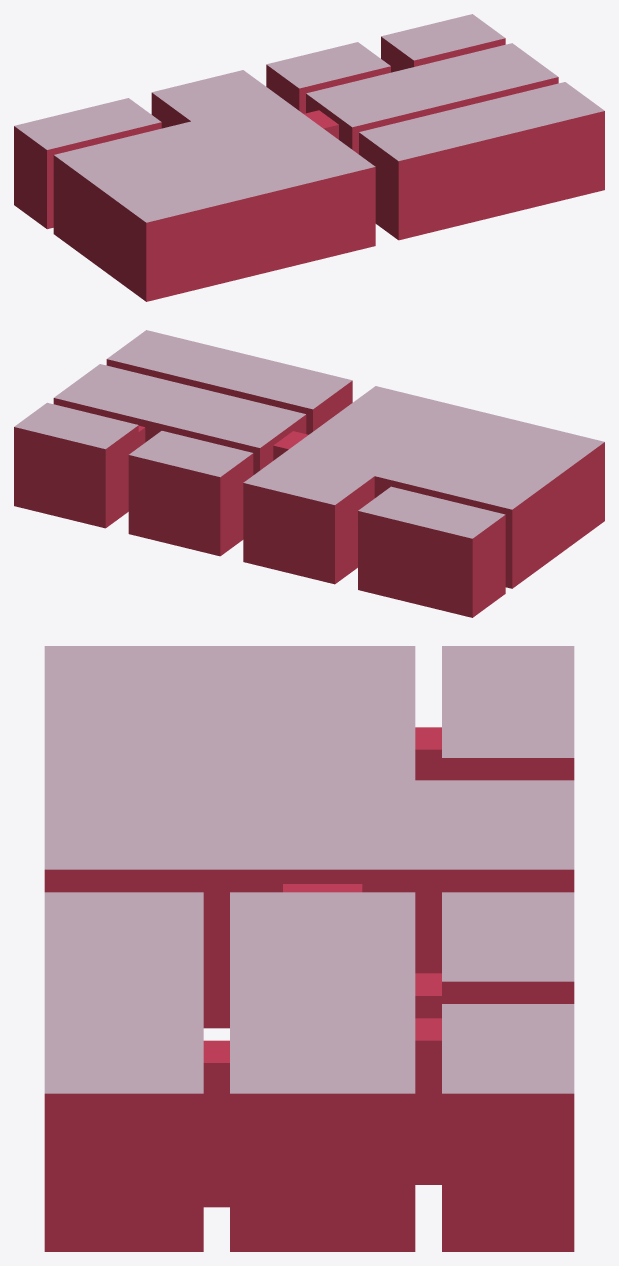
File: HOME3.fbx
The picture shows the model from 3 angles, top to bottom: view 1: azimuth 30°, elevation 25°; view 2: azimuth 150°, elevation 25°; view 3: azimuth 270°, elevation 25°; orthographic projection. The views are drawn at different scales.
Visible parts, largest first — view 1: Plane; view 2: Plane; view 3: Plane.
Boxes of the visible parts, box(x1,y1,x2,y2) form: Plane: box(14, 14, 604, 301); Plane: box(14, 330, 604, 617); Plane: box(44, 646, 574, 1251).
Bounding box in the file's own units: 3636 × 600 × 1818.
